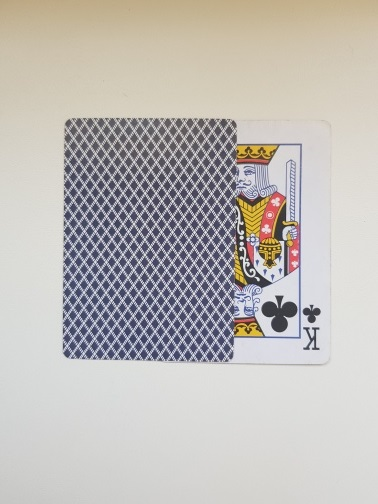king: (161, 120, 332, 365)
